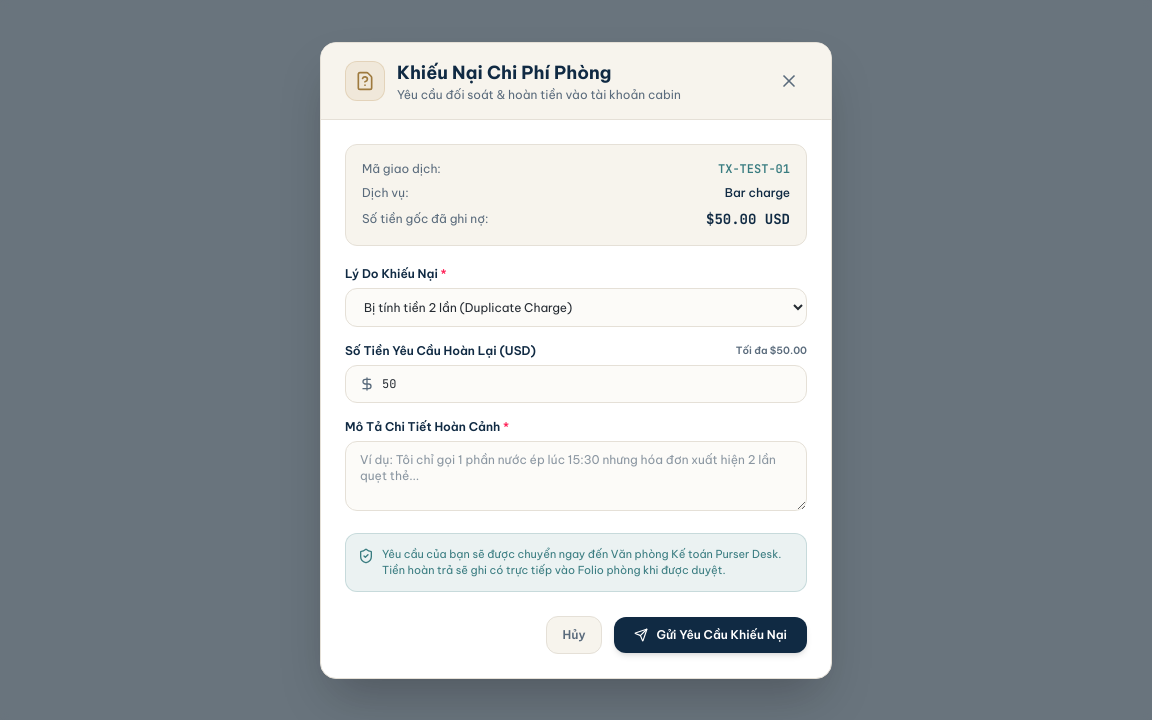
PassengerFolioViewer & PassengerDisputeModal Tests (KAN-401) › validates passenger note before submitting dispute
Click the button "Gửi Yêu Cầu Khiếu Nại" at (711, 634), box x1=614 y1=616 x2=807 y2=652
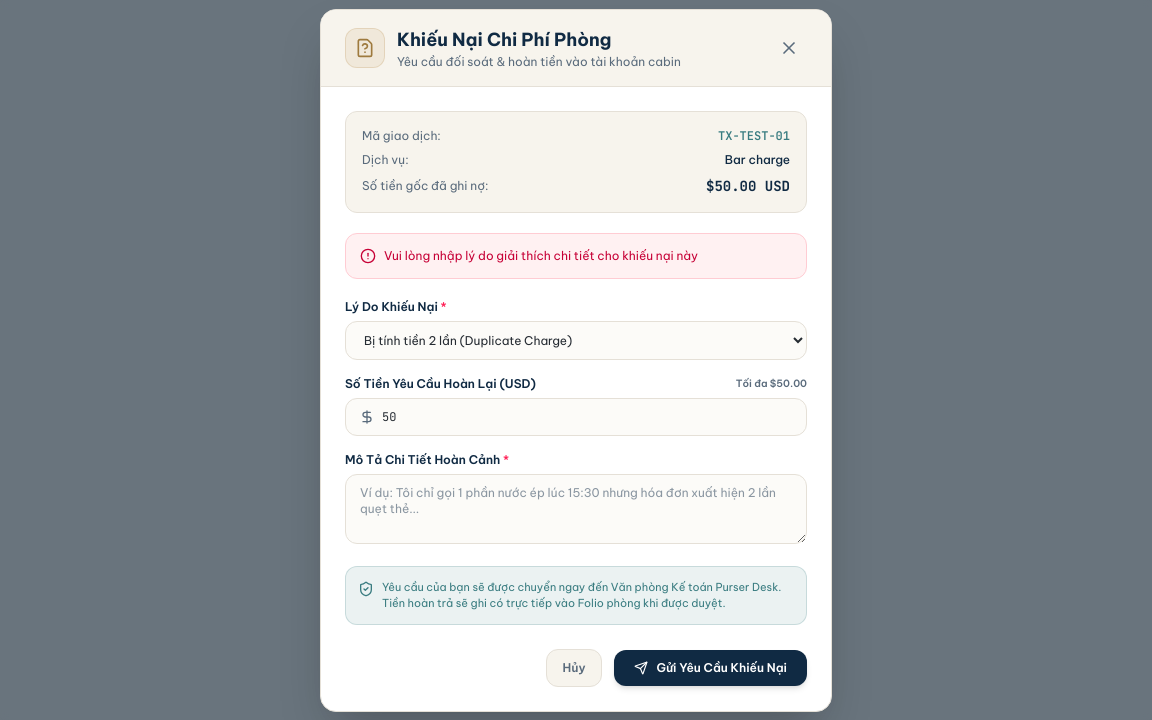
Now the text "Vui lòng nhập lý do giải thích chi tiết cho khiếu nại này" is shown, box x1=384 y1=248 x2=698 y2=264
